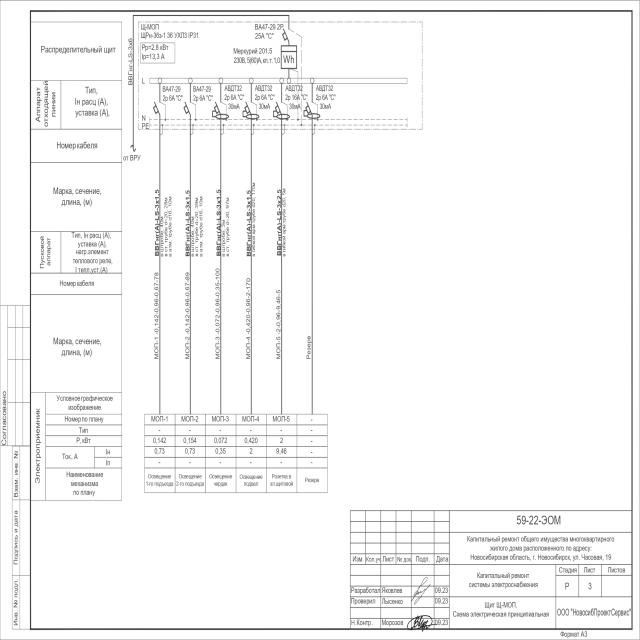-: (140, 21, 200, 41), (232, 45, 281, 65), (285, 84, 308, 110), (254, 84, 276, 110), (223, 84, 244, 111), (253, 22, 284, 40), (315, 84, 336, 110), (192, 84, 213, 102), (162, 85, 183, 103)
QF: (183, 98, 192, 116), (153, 99, 162, 117), (282, 26, 291, 44)
QFD: (303, 98, 321, 120), (212, 99, 230, 120), (242, 100, 260, 121), (272, 100, 290, 120)
WH: (280, 44, 298, 70)
